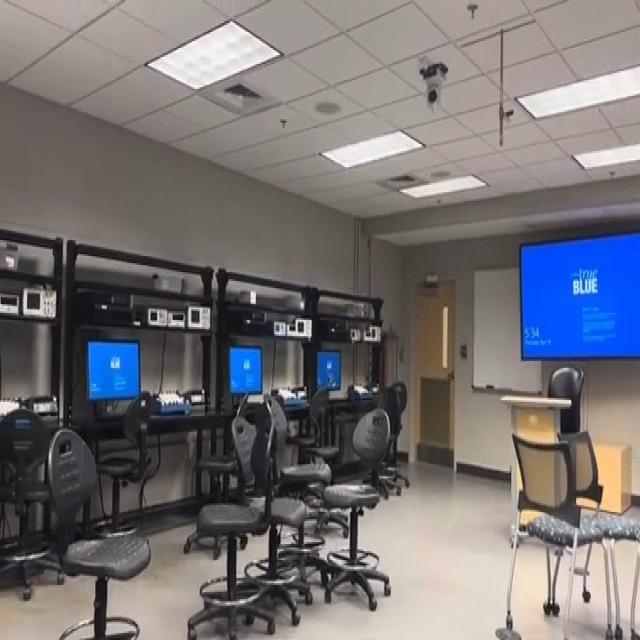drone: (318, 367, 351, 407)
